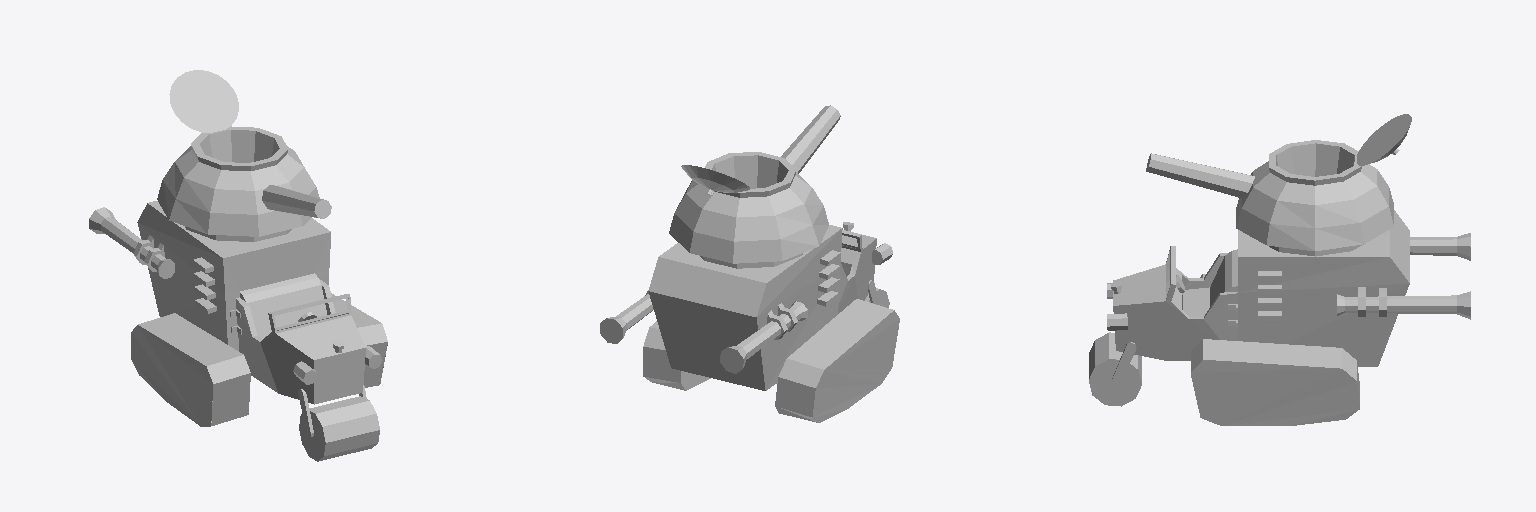
File: ArmySurplusSpecial.obj
3 views of the same model, side by side, from view 1: azimuth 30°, elevation 25°; view 2: azimuth 150°, elevation 25°; view 3: azimuth 270°, elevation 25° (orthographic).
Visible parts, largest first — view 1: Mesh_0082out, Mesh_0073out, Mesh_0247out, Mesh_0074out, Mesh_0246out; view 2: Mesh_0082out, Mesh_0073out, Mesh_0247out, Mesh_0246out; view 3: Mesh_0082out, Mesh_0073out, Mesh_0246out, Mesh_0074out.
Part boxes in pixels (left/top/right/bottom): Mesh_0082out: left=89, top=201, right=387, bottom=437; Mesh_0073out: left=157, top=70, right=331, bottom=241; Mesh_0247out: left=138, top=313, right=250, bottom=425; Mesh_0074out: left=299, top=396, right=379, bottom=461; Mesh_0246out: left=331, top=293, right=387, bottom=387; Mesh_0082out: left=600, top=222, right=899, bottom=422; Mesh_0073out: left=669, top=105, right=840, bottom=268; Mesh_0247out: left=775, top=299, right=893, bottom=422; Mesh_0246out: left=643, top=321, right=710, bottom=390; Mesh_0082out: left=1107, top=210, right=1470, bottom=425; Mesh_0073out: left=1146, top=114, right=1411, bottom=256; Mesh_0246out: left=1191, top=339, right=1359, bottom=401; Mesh_0074out: left=1089, top=332, right=1141, bottom=406.
Size of the model in its own units: 2.75 by 4.08 by 5.18.